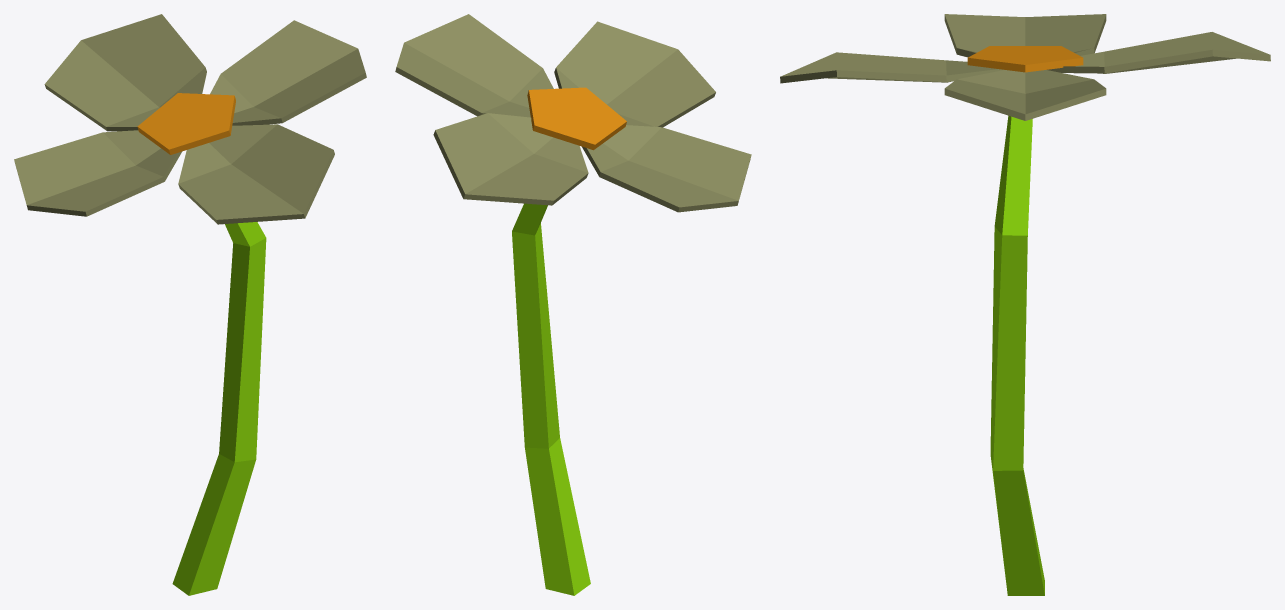
Rendered from Flower4.fbx.
The picture shows the model from 3 angles, left to right: view 1: azimuth 30°, elevation 25°; view 2: azimuth 150°, elevation 25°; view 3: azimuth 270°, elevation 25°; orthographic projection. The views are drawn at different scales.
Parts seen in each view (by area): view 1: Flower_White; view 2: Flower_White; view 3: Flower_White.
Part boxes in pixels (x1=…): Flower_White: x1=14, y1=14, x2=366, y2=595; Flower_White: x1=395, y1=14, x2=751, y2=595; Flower_White: x1=780, y1=14, x2=1270, y2=595.
Size of the model in its own units: 5.35 by 6.04 by 7.79.
